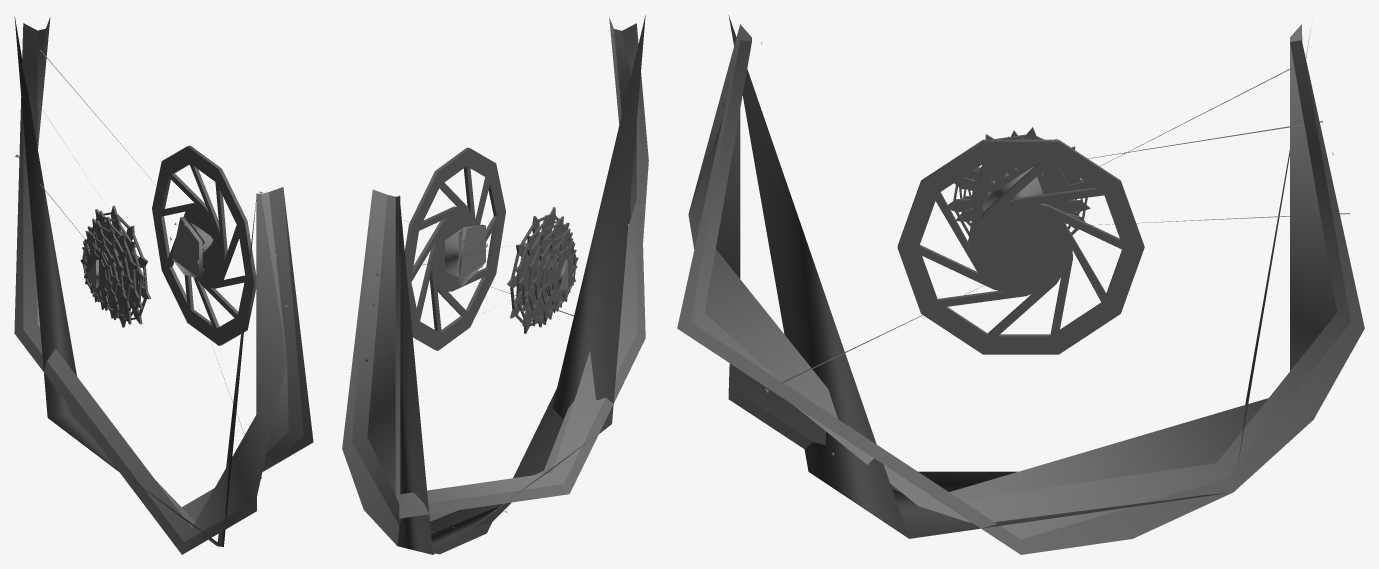
File: wheelR.glb
The picture shows the model from 3 angles, left to right: view 1: azimuth 30°, elevation 25°; view 2: azimuth 150°, elevation 25°; view 3: azimuth 270°, elevation 25°; orthographic projection. The views are drawn at different scales.
Parts seen in each view (by area): view 1: Wheel_B_Mat Wheel_0, Wheel_B_Textures_0; view 2: Wheel_B_Mat Wheel_0, Wheel_B_Textures_0; view 3: Wheel_B_Mat Wheel_0, Wheel_B_Textures_0.
Boxes of the visible parts, x1,y1,x2,y2 form: Wheel_B_Mat Wheel_0: (14,17,313,554); Wheel_B_Textures_0: (14,16,256,546); Wheel_B_Mat Wheel_0: (342,16,648,554); Wheel_B_Textures_0: (397,15,645,554); Wheel_B_Mat Wheel_0: (677,24,1364,554); Wheel_B_Textures_0: (728,15,1311,538).
Bounding box in the file's own units: 0.0886 × 0.3238 × 0.3879.
2 materials, 1 textured.
